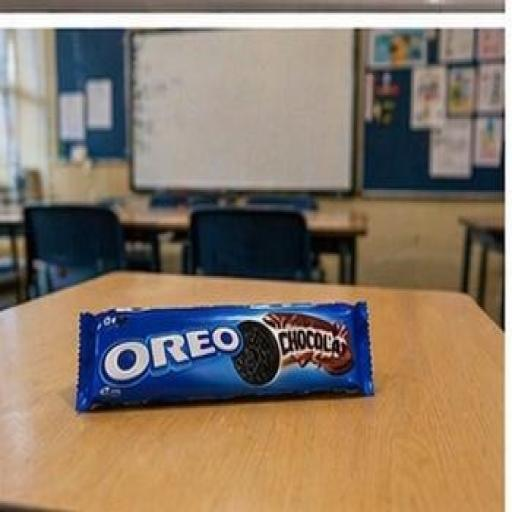oreo: (55, 263, 404, 446)
